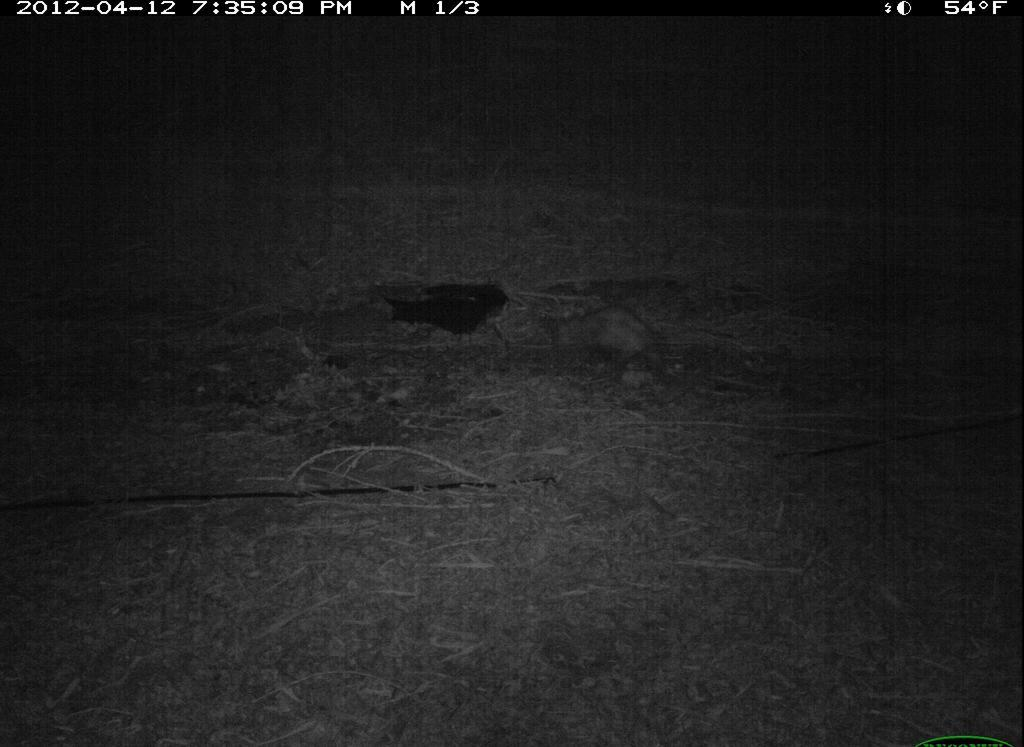opossum: (533, 287, 676, 372)
